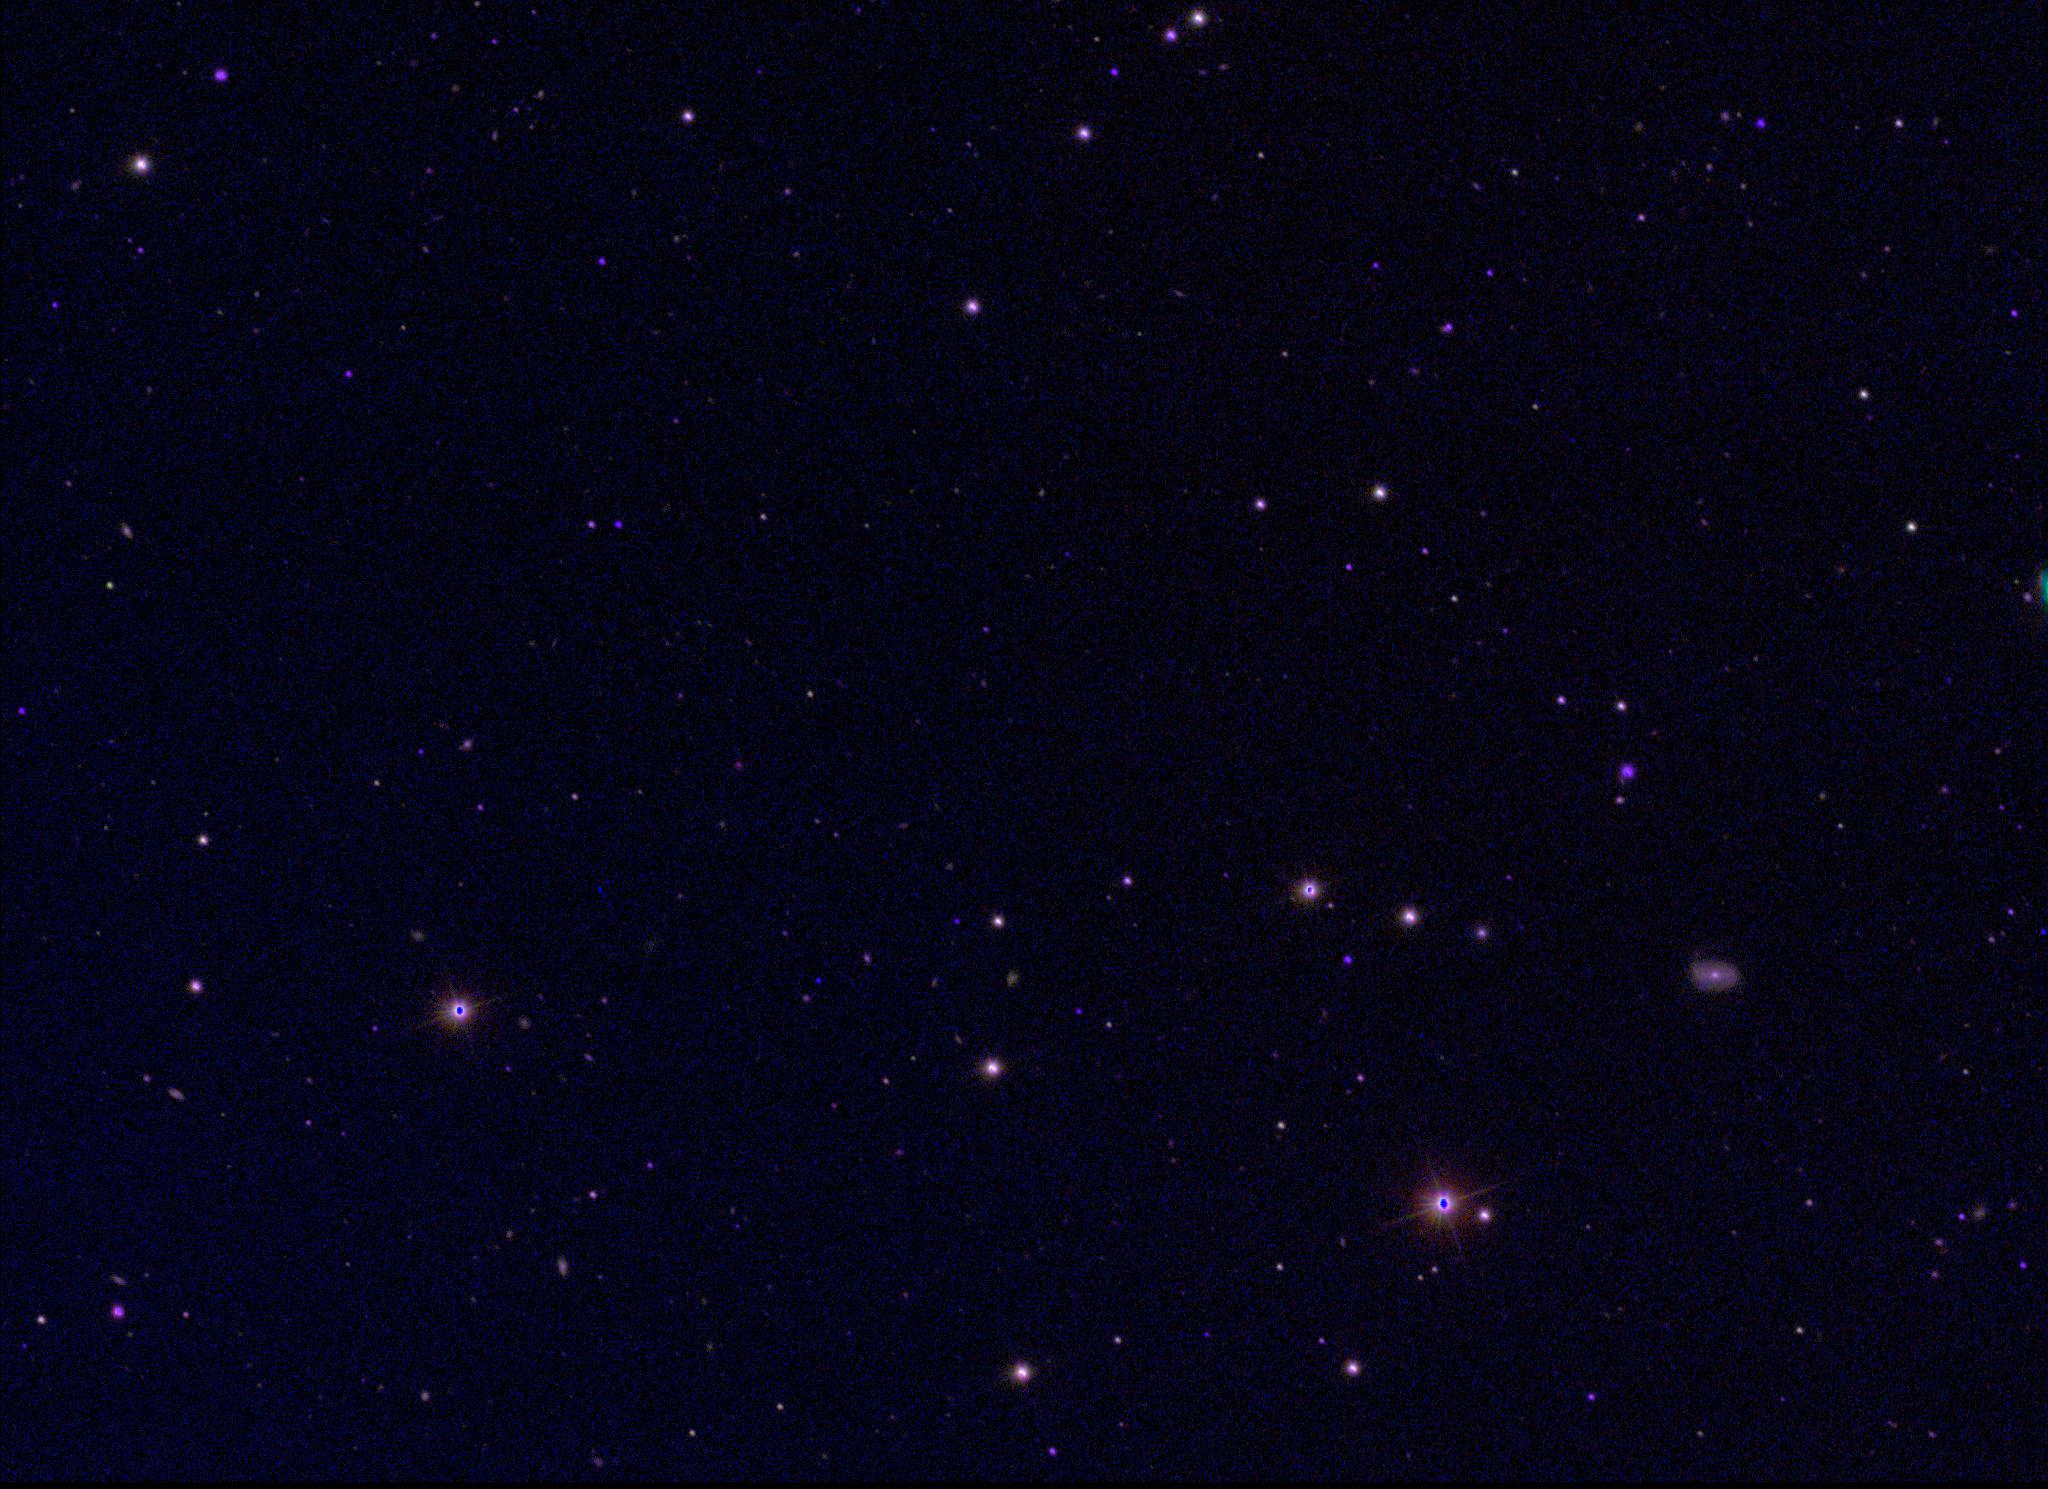L: (808, 970, 820, 985)
